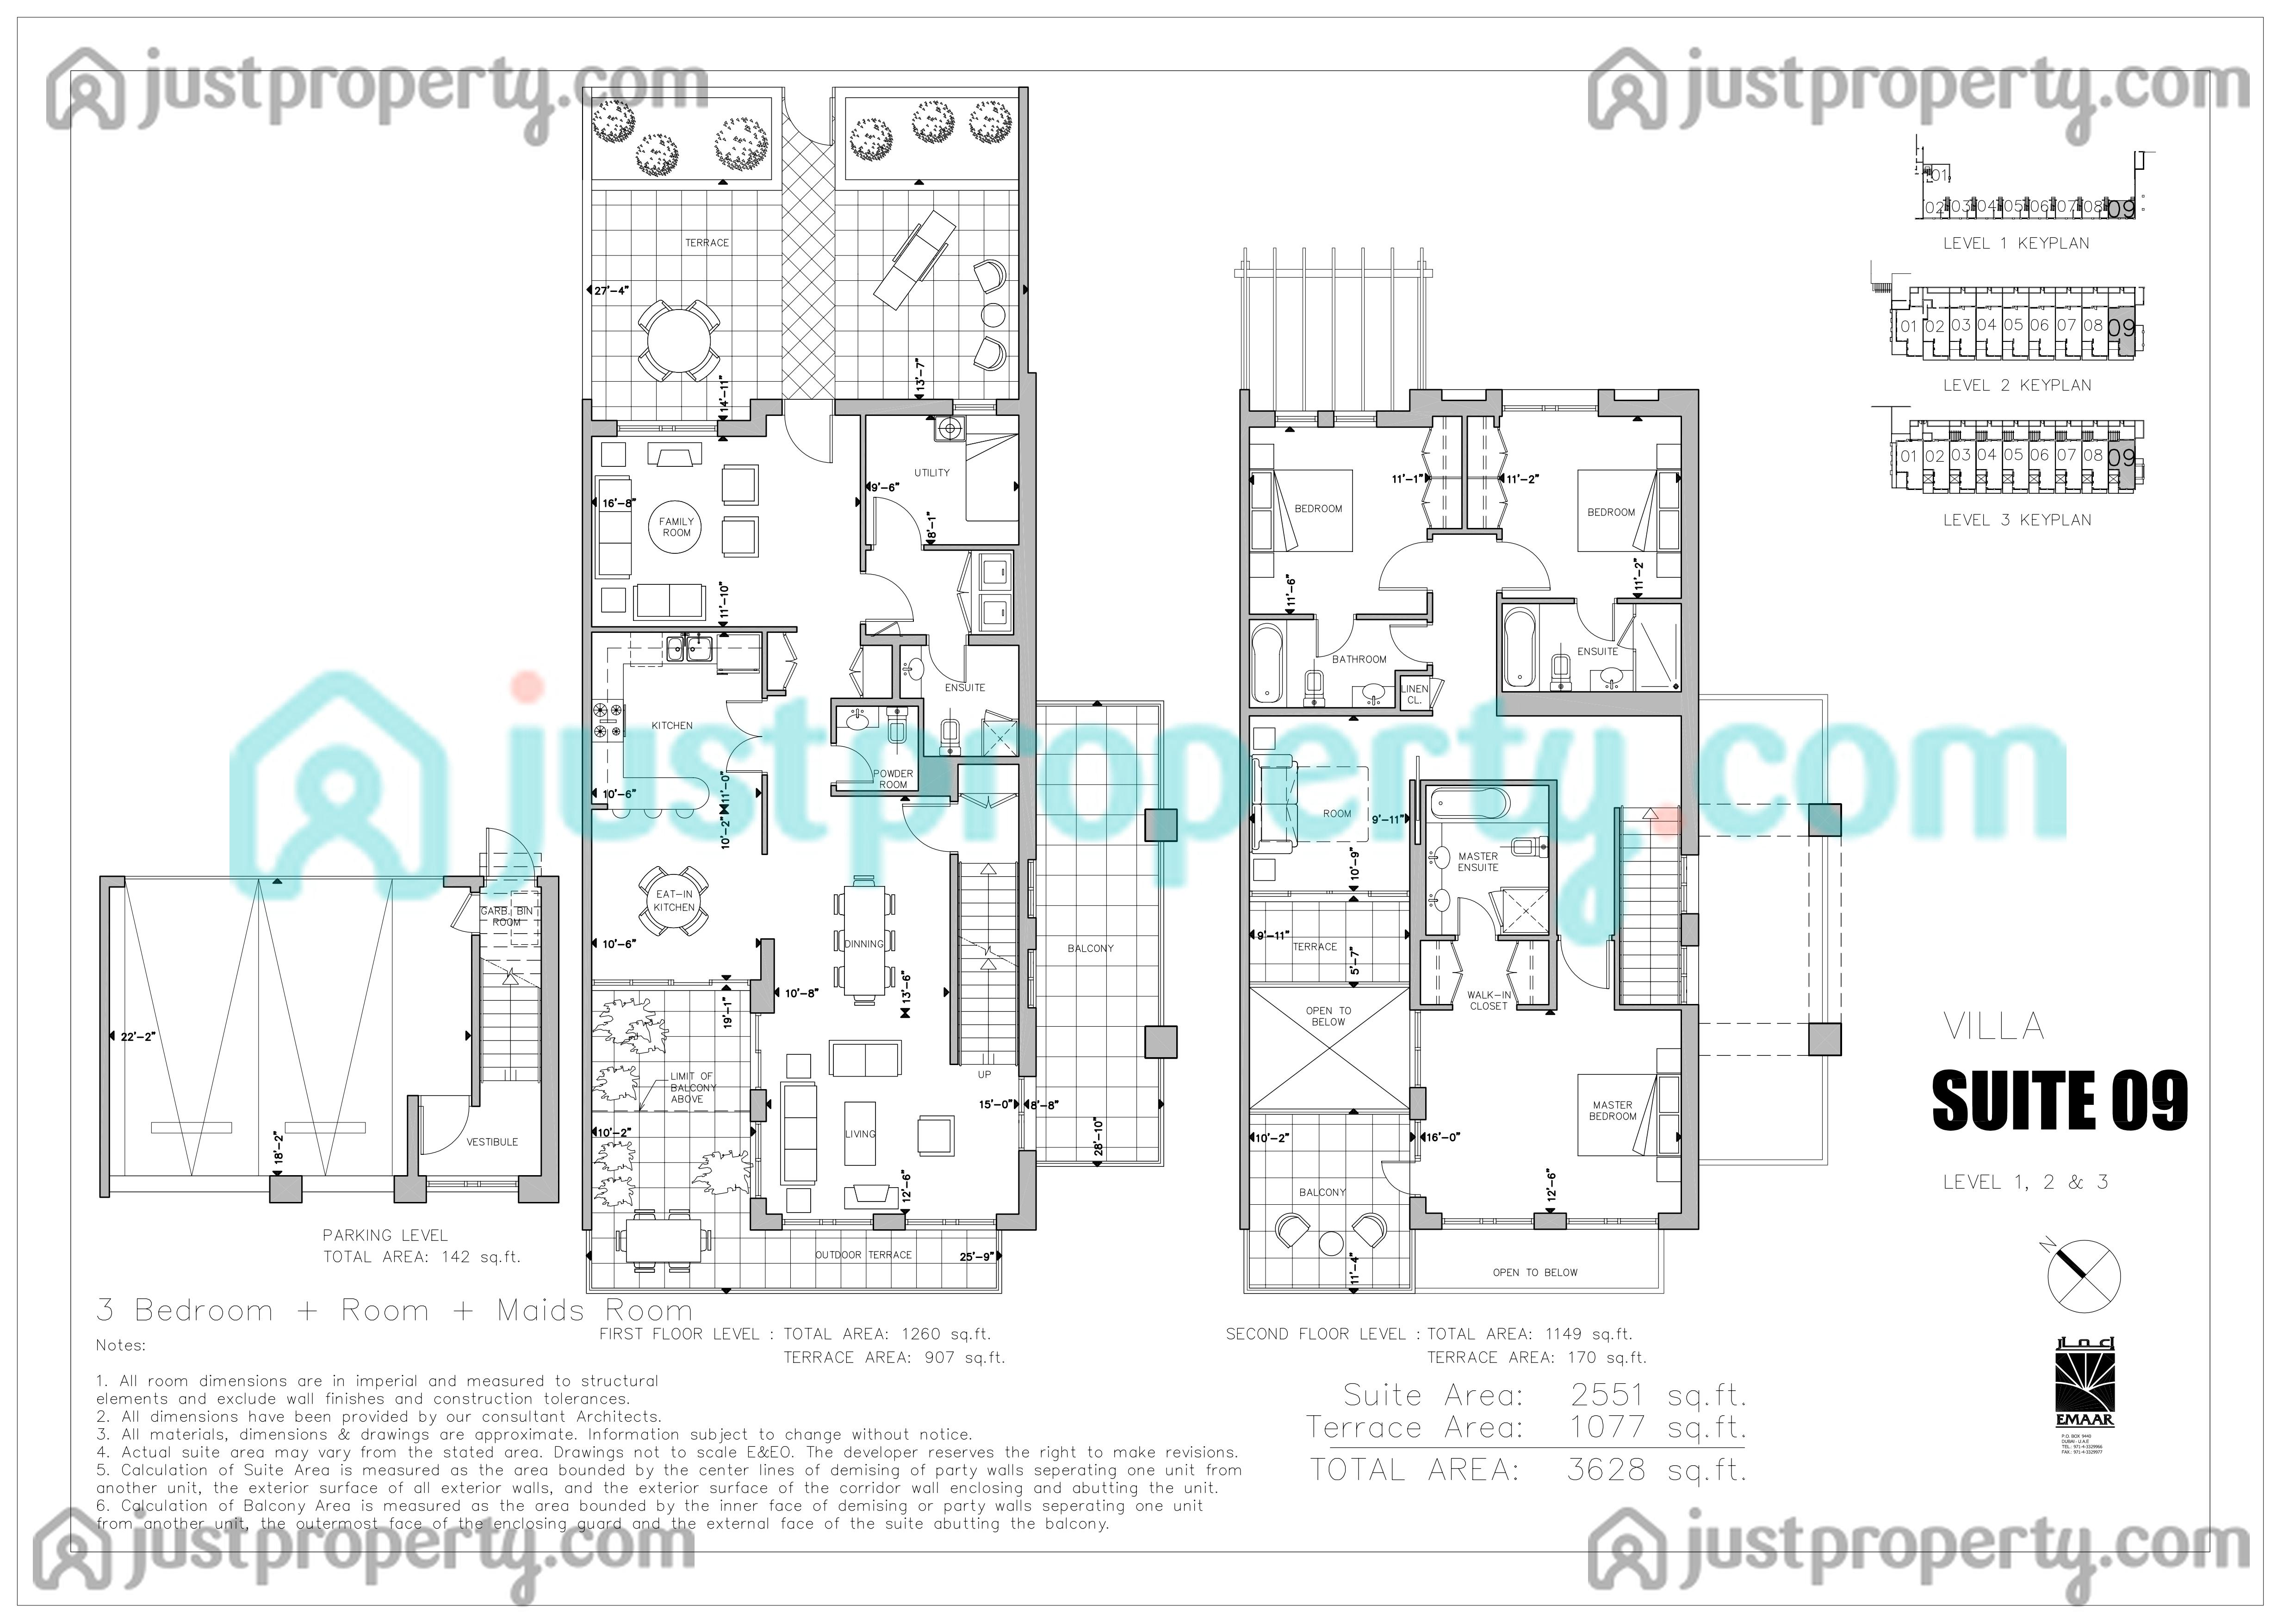window: (423, 1173, 522, 1205), (1498, 388, 1600, 413), (611, 418, 720, 439), (1439, 1210, 1535, 1233), (1565, 1210, 1662, 1233), (780, 1212, 877, 1233), (903, 1210, 1000, 1231), (1407, 1008, 1428, 1091), (748, 1119, 769, 1200), (748, 1012, 768, 1093), (1676, 943, 1700, 1006), (1678, 852, 1700, 917), (1328, 408, 1383, 432), (950, 397, 1000, 418), (1272, 409, 1321, 430)
